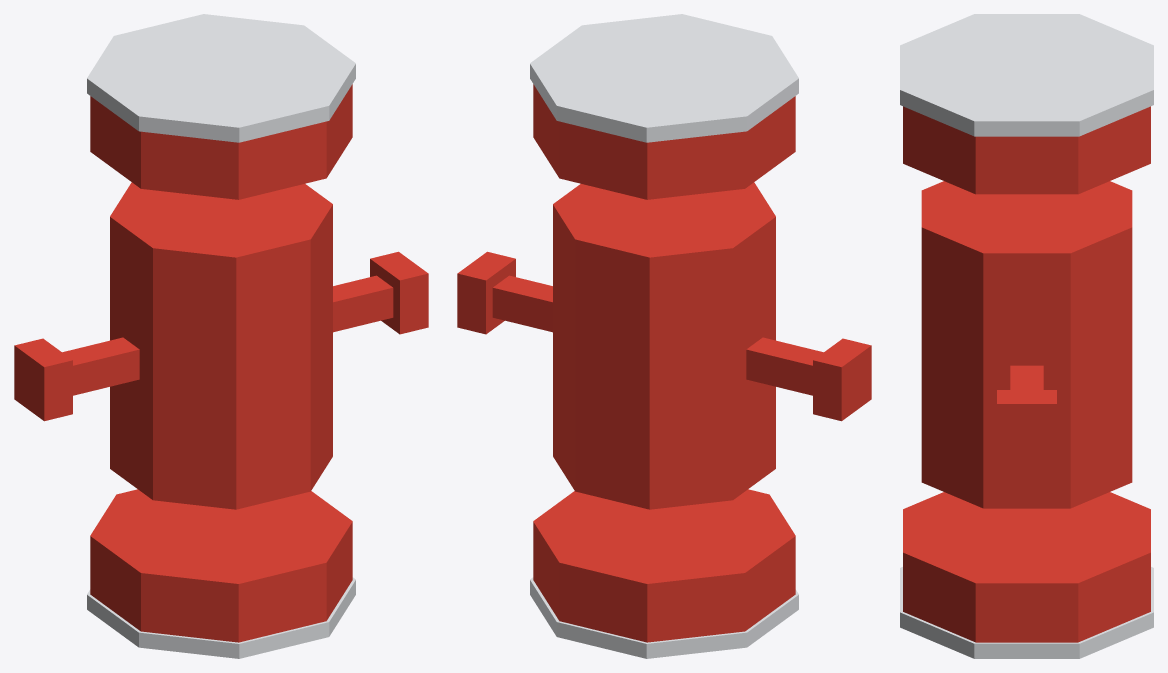
File: rook.glb
3 views of the same model, side by side, from view 1: azimuth 30°, elevation 25°; view 2: azimuth 150°, elevation 25°; view 3: azimuth 270°, elevation 25° (orthographic).
Visible parts, largest first — view 1: rook; view 2: rook; view 3: rook.
Part boxes in pixels (x1,y1,x2,y2): rook: (14,14,428,658); rook: (457,14,871,658); rook: (900,14,1153,658).
Size of the model in its own units: 0.67 by 0.885 by 0.3788.
